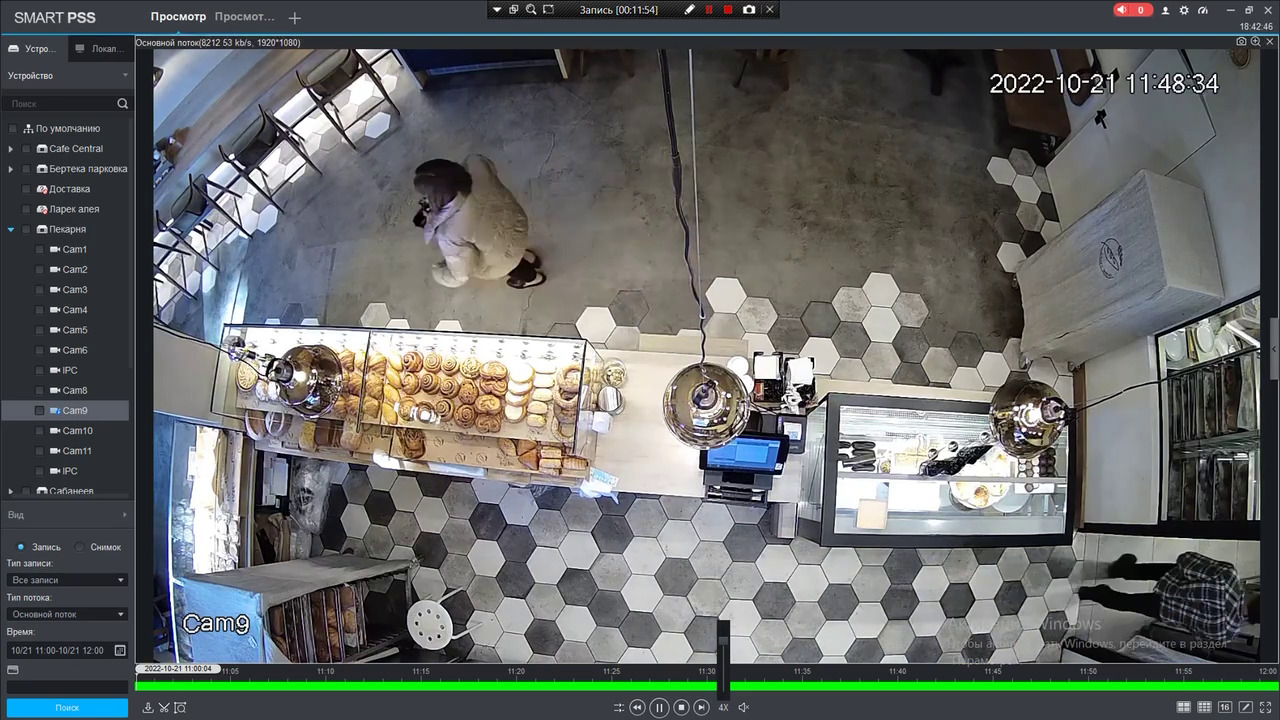barcounter: (213, 329, 1076, 548)
person: (403, 150, 556, 299), (1090, 540, 1268, 636)
